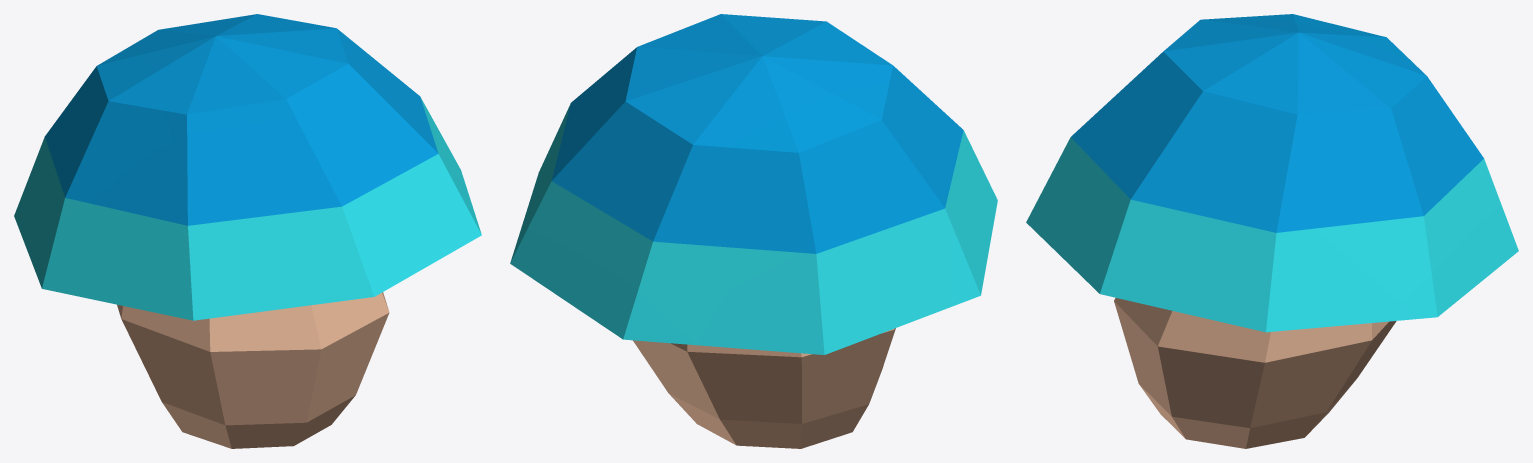
File: TreePackage.fbx_Mushroom3.fbx
The picture shows the model from 3 angles, left to right: view 1: azimuth 30°, elevation 25°; view 2: azimuth 150°, elevation 25°; view 3: azimuth 270°, elevation 25°; orthographic projection. The views are drawn at different scales.
Visible parts, largest first — view 1: Mushroom.001; view 2: Mushroom.001; view 3: Mushroom.001.
Boxes of the visible parts, left/top/right/bottom form: Mushroom.001: left=14, top=14, right=481, bottom=448; Mushroom.001: left=510, top=14, right=997, bottom=448; Mushroom.001: left=1026, top=14, right=1518, bottom=448.
Bounding box in the file's own units: 101 × 88.34 × 99.42.
